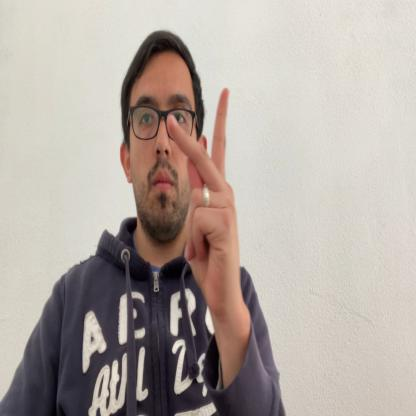P: (167, 86, 240, 318)
